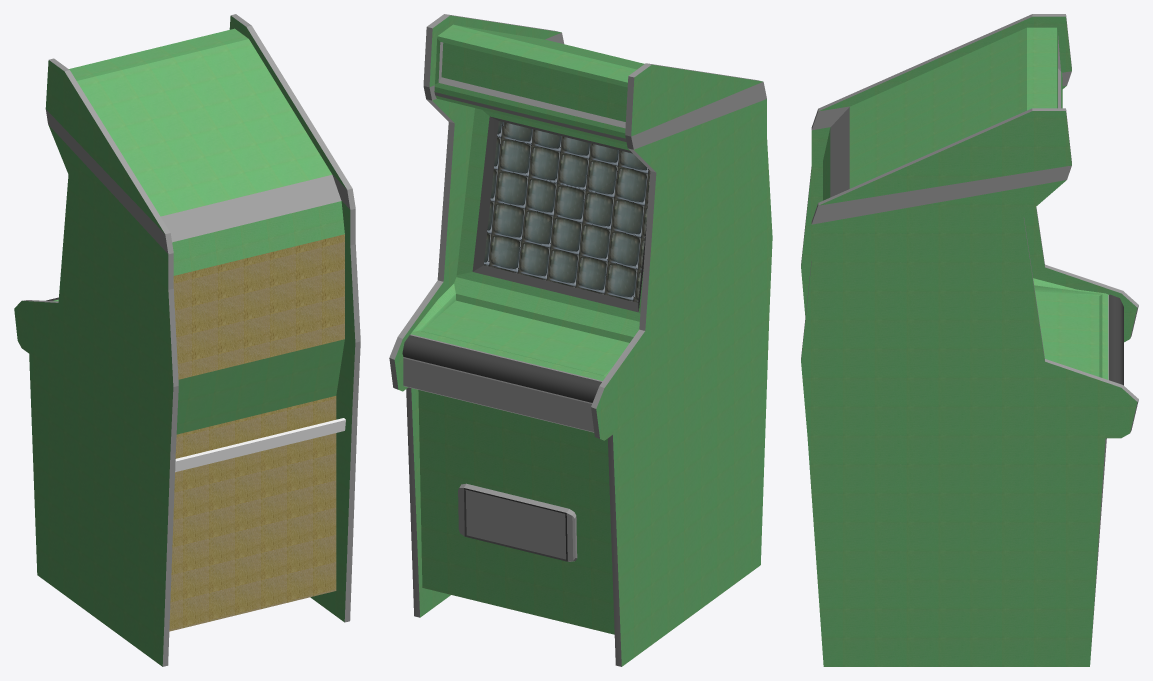
The picture shows the model from 3 angles, left to right: view 1: azimuth 30°, elevation 25°; view 2: azimuth 150°, elevation 25°; view 3: azimuth 270°, elevation 25°; orthographic projection. The views are drawn at different scales.
Parts seen in each view (by area): view 1: Centro, Aleta Izquierda.001, Aleta Izquierda, Atras; view 2: Centro, Aleta Izquierda.001, Aleta Izquierda, Otro 2, Deco; view 3: Aleta Izquierda, Centro, Aleta Izquierda.001, Deco.
Boxes of the visible parts, bbox=[...] form: Centro: bbox=[53, 28, 344, 631]; Aleta Izquierda.001: bbox=[14, 58, 178, 666]; Aleta Izquierda: bbox=[229, 14, 360, 622]; Atras: bbox=[175, 418, 345, 472]; Centro: bbox=[403, 24, 650, 634]; Aleta Izquierda.001: bbox=[591, 63, 772, 666]; Aleta Izquierda: bbox=[389, 14, 564, 617]; Otro 2: bbox=[458, 483, 577, 561]; Deco: bbox=[402, 335, 601, 402]; Aleta Izquierda: bbox=[801, 108, 1138, 666]; Centro: bbox=[823, 27, 1108, 379]; Aleta Izquierda.001: bbox=[801, 14, 1138, 342]; Deco: bbox=[1109, 294, 1123, 385].
Size of the model in its own units: 721 by 1925 by 1061.
